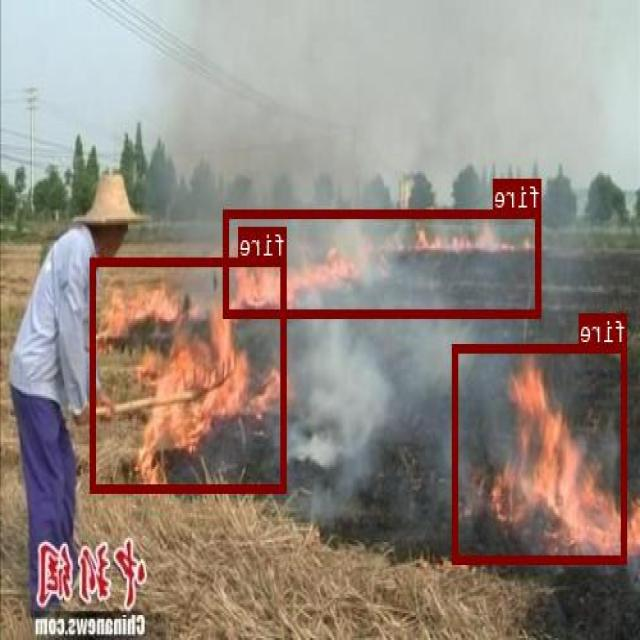fire: (91, 257, 287, 490), (453, 342, 628, 562), (225, 208, 542, 317)
